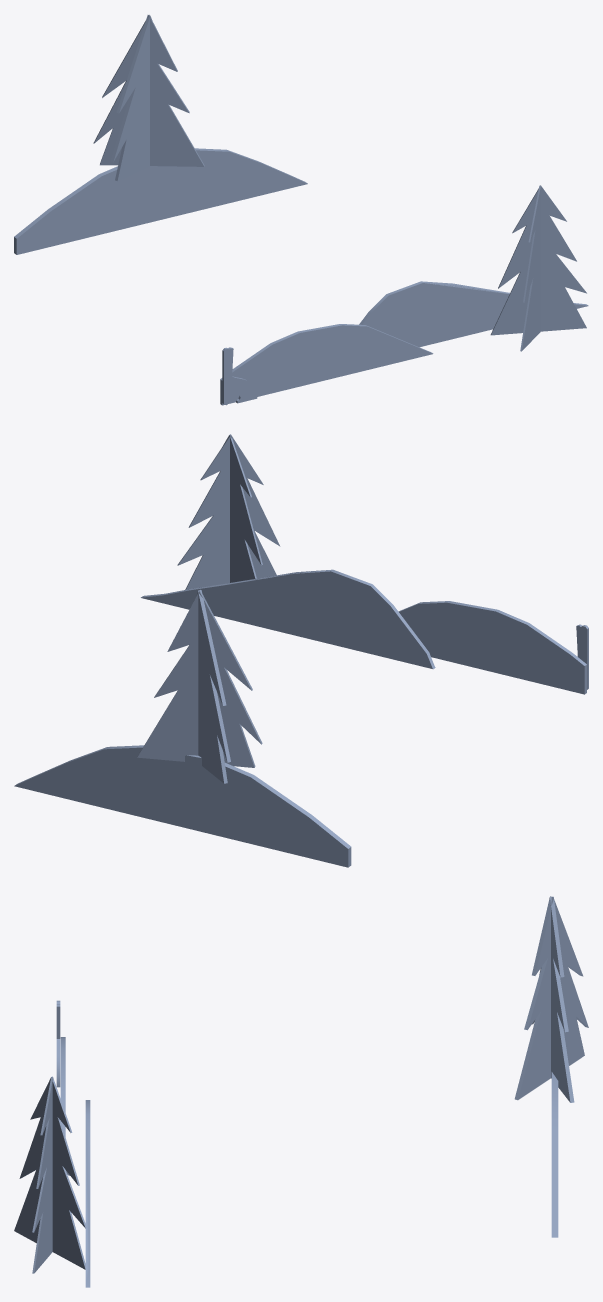
The model's file is frame_0173.glb.
3 views of the same model, one above another, from view 1: azimuth 30°, elevation 25°; view 2: azimuth 150°, elevation 25°; view 3: azimuth 270°, elevation 25° (orthographic). The views are drawn at different scales.
Visible parts, largest first — view 1: export_trees_001.002; view 2: export_trees_001.002; view 3: export_trees_001.002.
Part boxes in pixels (x1,y1,x2,y2): export_trees_001.002: (14,15,588,405); export_trees_001.002: (14,434,588,867); export_trees_001.002: (14,896,588,1287).
Bounding box in the file's own units: 0.3275 × 0.1724 × 0.3621.
